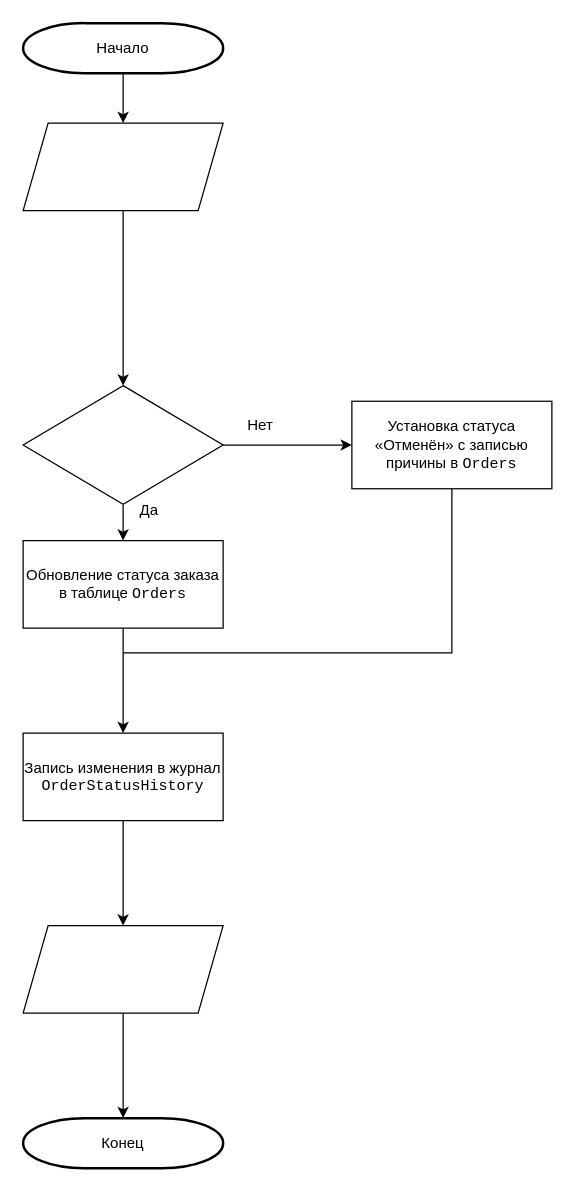
Image size: 574x1190. Some labels were removed from this diagram. The centre of each missing label's shape, as x and y in pixels:
Выбор заказа и нового статуса (или причины отмены): the point at 122,166
Заказ может быть выполнен?: the point at 122,444
Сообщение об успешном обновлении статуса заказа: the point at 122,968
